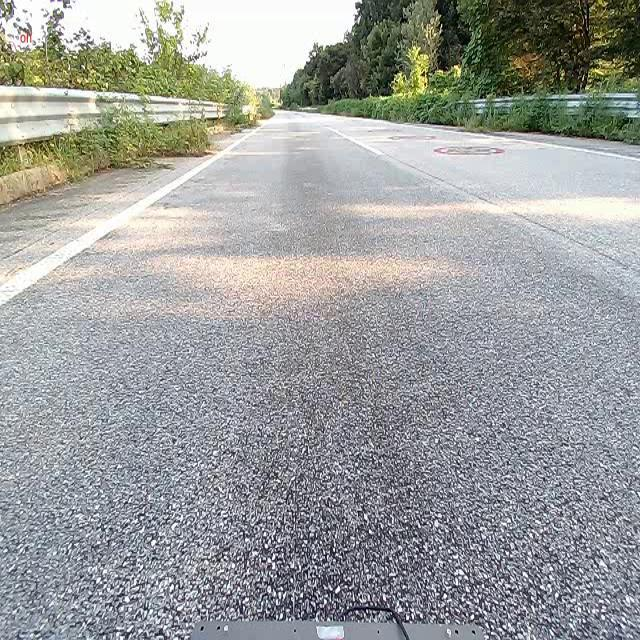Lane: (0, 120, 264, 309), (0, 130, 255, 306)
